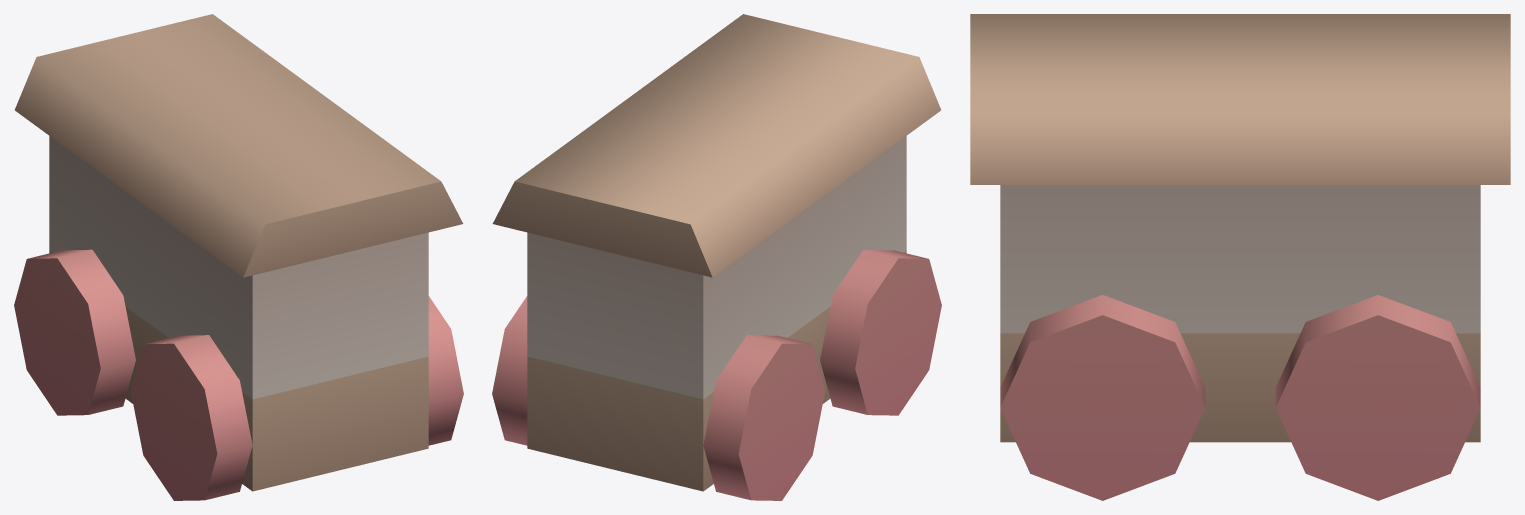
The model's file is toy-train-c_0.glb.
3 views of the same model, side by side, from view 1: azimuth 30°, elevation 25°; view 2: azimuth 150°, elevation 25°; view 3: azimuth 270°, elevation 25° (orthographic). The views are drawn at different scales.
Parts seen in each view (by area): view 1: toy-train-c; view 2: toy-train-c; view 3: toy-train-c.
Part boxes in pixels (left/top/right/bottom): toy-train-c: left=14, top=14, right=463, bottom=500; toy-train-c: left=492, top=14, right=941, bottom=500; toy-train-c: left=970, top=14, right=1510, bottom=500.
Bounding box in the file's own units: 0.07 × 0.0838 × 0.1125.
